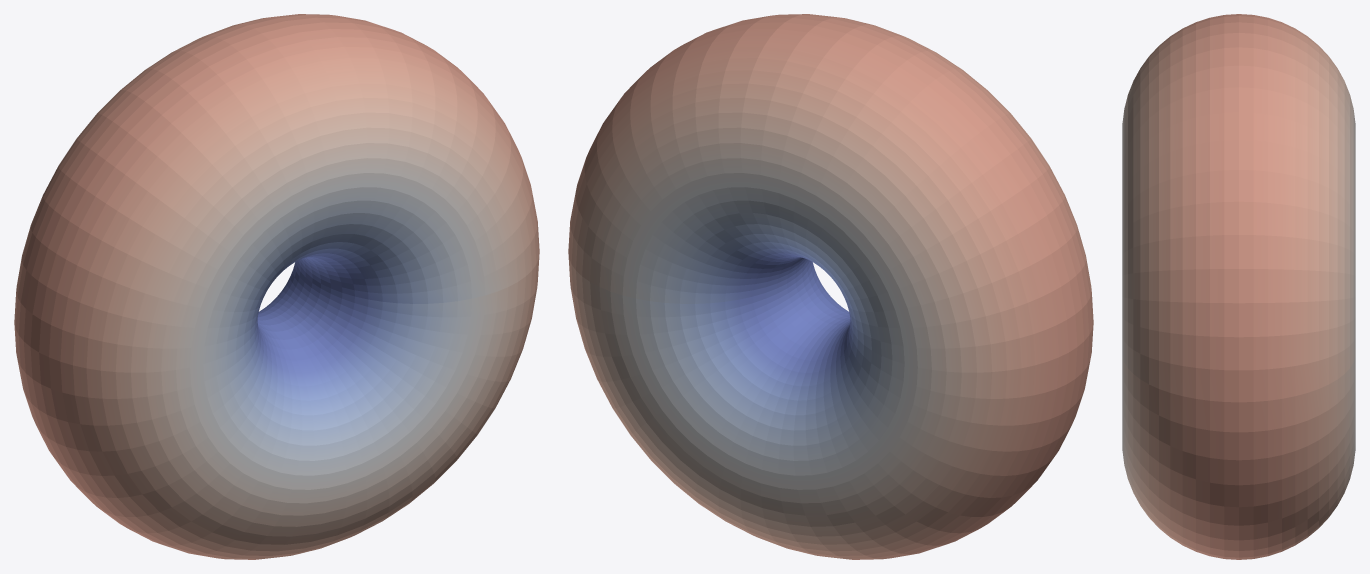
3 views of the same model, side by side, from view 1: azimuth 30°, elevation 25°; view 2: azimuth 150°, elevation 25°; view 3: azimuth 270°, elevation 25° (orthographic). The views are drawn at different scales.
Parts seen in each view (by area): view 1: world; view 2: world; view 3: world.
Boxes of the visible parts, x1,y1,x2,y2 form: world: [14, 14, 539, 559]; world: [568, 14, 1093, 559]; world: [1122, 14, 1355, 559].
Size of the model in its own units: 22.13 by 22.09 by 9.45.
